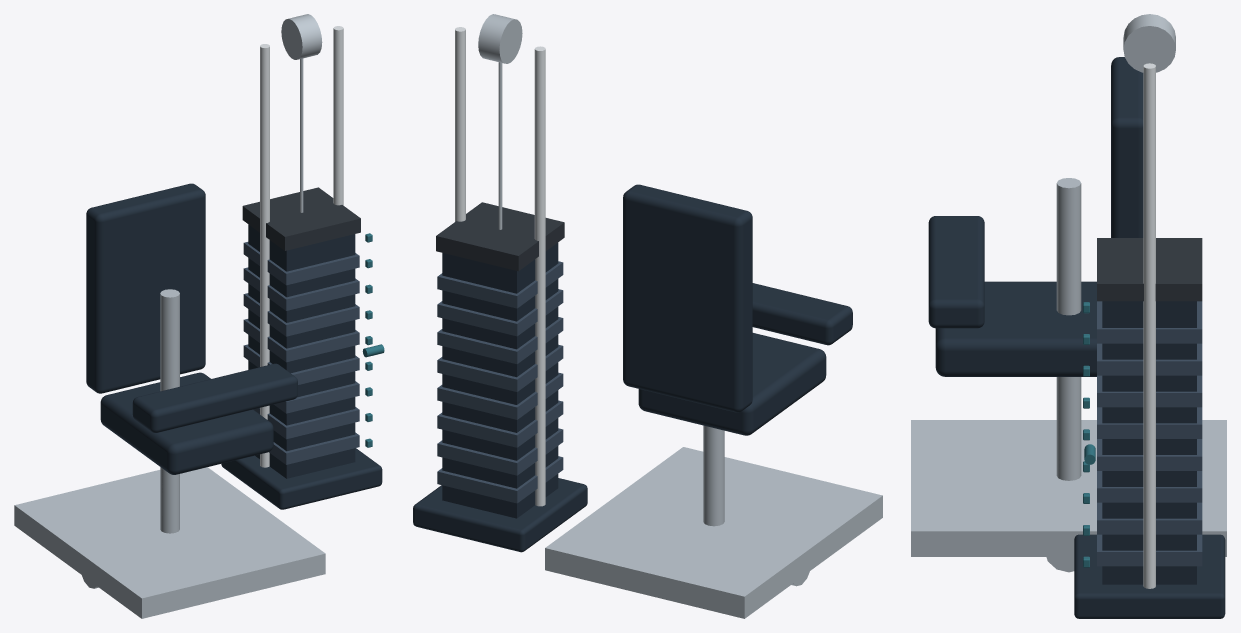
File: leg_extension.glb
The picture shows the model from 3 angles, left to right: view 1: azimuth 30°, elevation 25°; view 2: azimuth 150°, elevation 25°; view 3: azimuth 270°, elevation 25°; orthographic projection. The views are drawn at different scales.
Parts seen in each view (by area): view 1: base, back, stack, weightPlate (×8), seat, thighPad, guide (×2), stackBase, stackLift, legLever, loadPulley, post (+1 smaller); view 2: base, back, weightPlate (×8), stack, seat, guide (×2), stackBase, stackLift, thighPad, loadPulley, legLever, post (+1 smaller); view 3: base, weightPlate (×8), stack, seat, stackBase, guide, thighPad, stackLift, back, legLever, loadPulley, post.
Boxes of the visible parts, x1,y1,x2,y2 form: base: (14, 467, 325, 618); back: (86, 183, 205, 393); stack: (248, 224, 355, 478); weightPlate (×8): (243, 242, 359, 464); seat: (100, 372, 273, 474); thighPad: (132, 363, 297, 432); guide (×2): (260, 26, 343, 467); stackBase: (221, 448, 382, 509); stackLift: (242, 187, 360, 250); legLever: (160, 289, 179, 506); loadPulley: (281, 14, 322, 59); post: (160, 467, 179, 533); base: (545, 447, 882, 618); back: (623, 184, 752, 412); weightPlate (×8): (437, 261, 563, 503); stack: (442, 242, 558, 518); seat: (638, 333, 826, 435); guide (×2): (455, 27, 545, 506); stackBase: (413, 478, 587, 552); stackLift: (436, 202, 564, 271); thighPad: (752, 283, 852, 345); loadPulley: (478, 14, 522, 63); legLever: (703, 425, 724, 525); post: (704, 426, 724, 526); base: (911, 420, 1226, 556); weightPlate (×8): (1097, 301, 1202, 566); stack: (1102, 301, 1196, 584); seat: (935, 281, 1096, 376); stackBase: (1074, 534, 1225, 618); guide: (1143, 63, 1155, 588); thighPad: (928, 216, 984, 328); stackLift: (1097, 238, 1202, 301); back: (1111, 57, 1143, 237); legLever: (1056, 178, 1081, 480); loadPulley: (1123, 14, 1175, 72); post: (1056, 377, 1081, 480).
Bounding box in the file's own units: 1.28 × 1.9 × 0.9.
